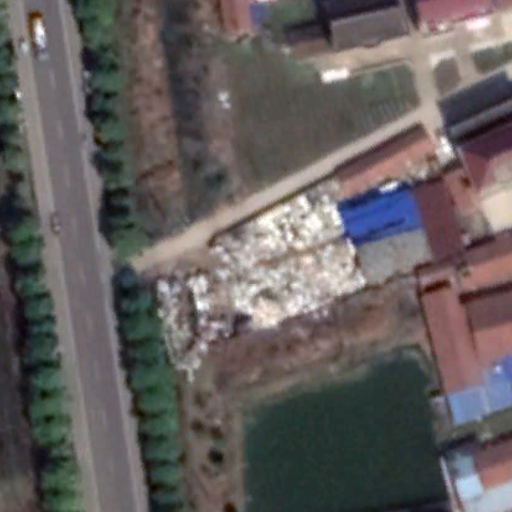msw: (153, 179, 365, 373)
